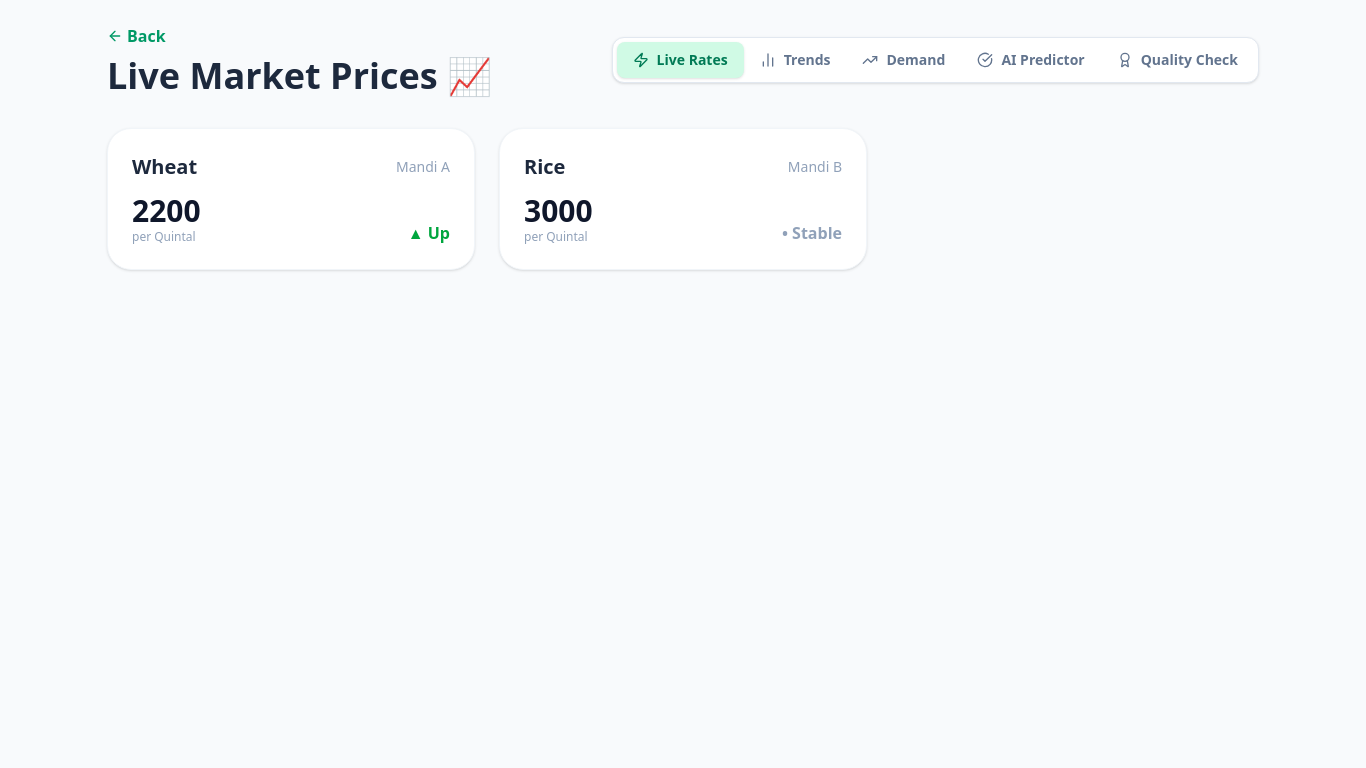
Scenario: MarketPrices Component › navigates to AI Predictor tab and submits prediction
The image size is (1366, 768).
Click the button "AI Predictor". click: [1031, 60]
box: [961,42,1101,78]
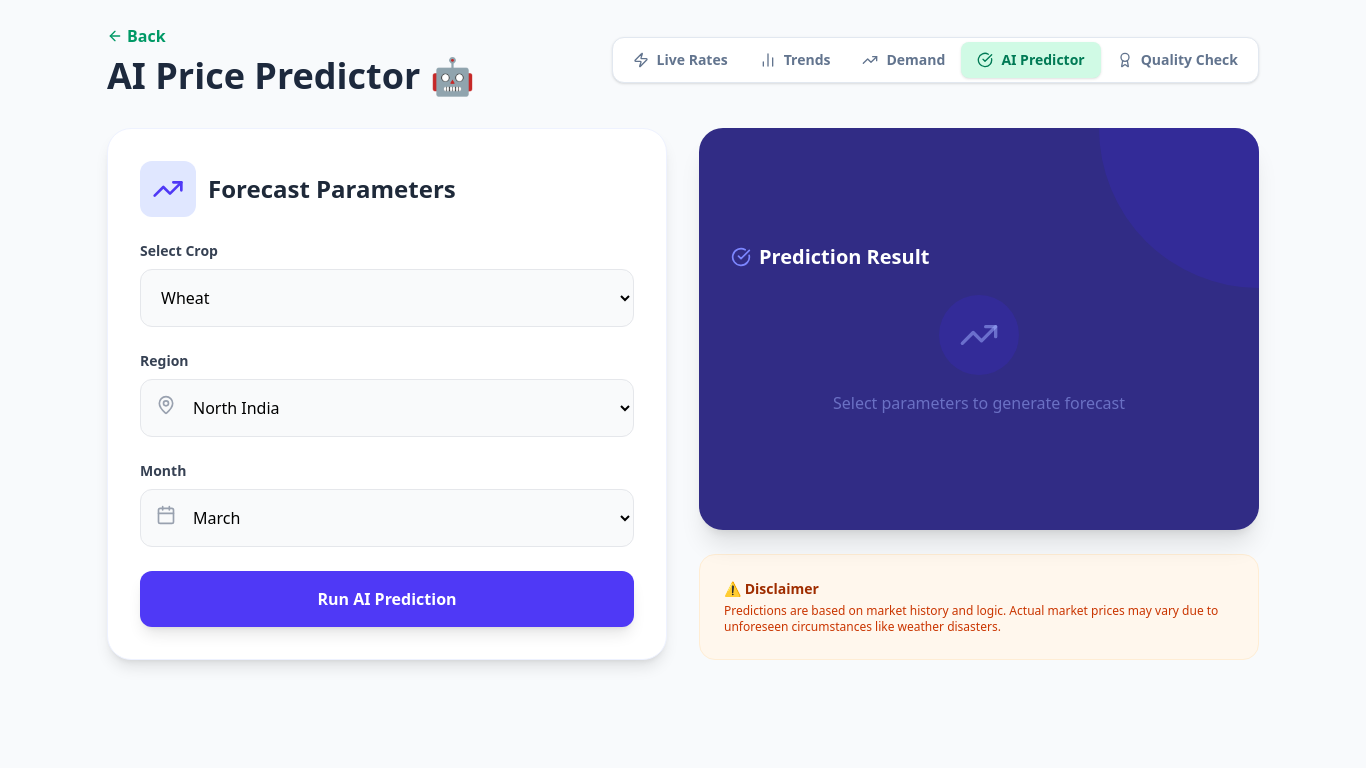
Check: the heading "AI Price Predictor 🤖" is shown, box [107,56,475,96]
Check: the heading "Forecast Parameters" is shown, box [208,173,456,205]
Click the button "Run AI Prediction". click: [387, 599]
box: [140,571,634,627]
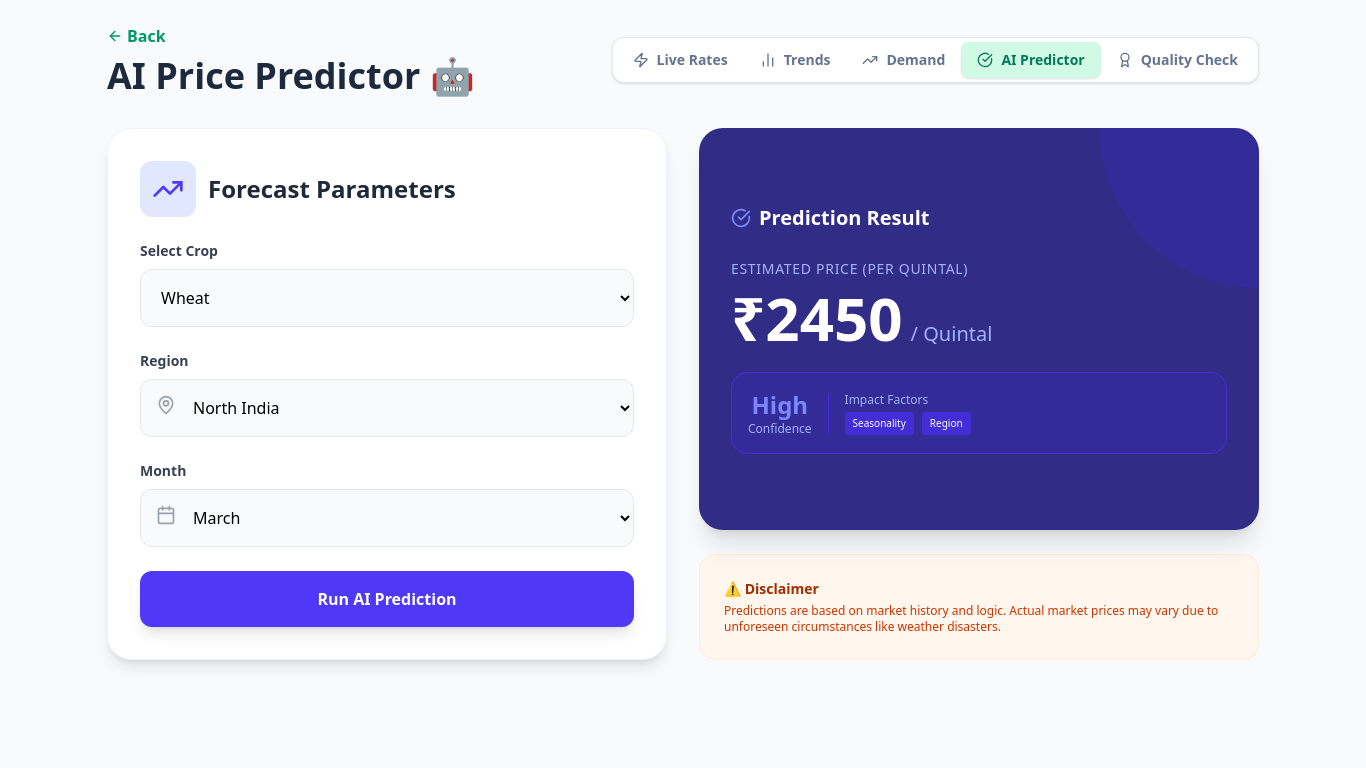
Check: the heading "Prediction Result" is shown, box [731,204,930,231]
Check: the text "₹2450/ Quintal" is shown, box [731,277,992,359]
